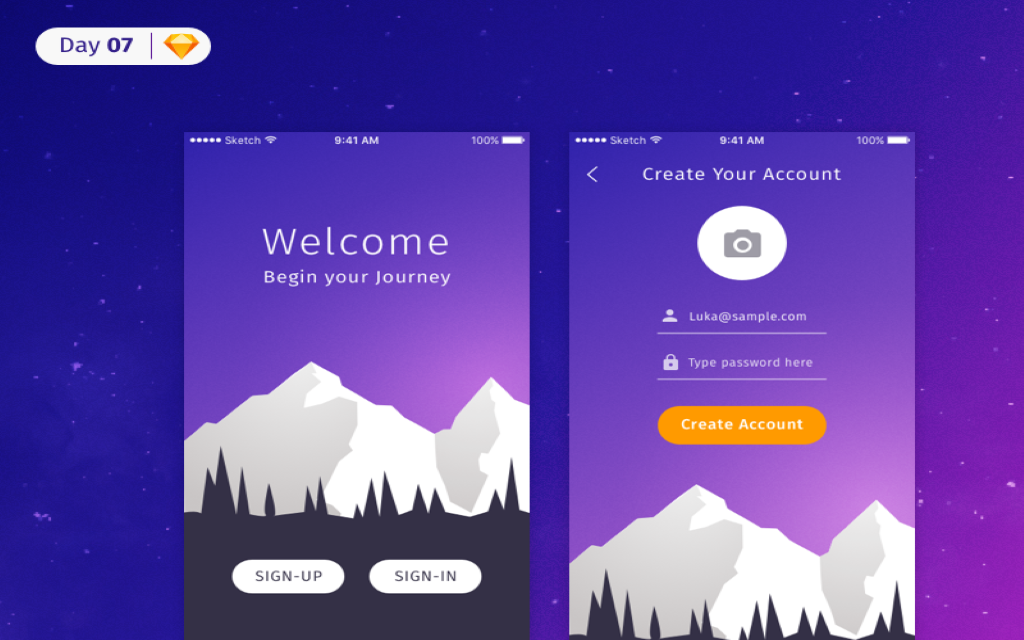button: (659, 405, 826, 443), (232, 559, 346, 596), (368, 559, 483, 594)
textbox: (681, 340, 821, 377), (683, 301, 820, 330)
